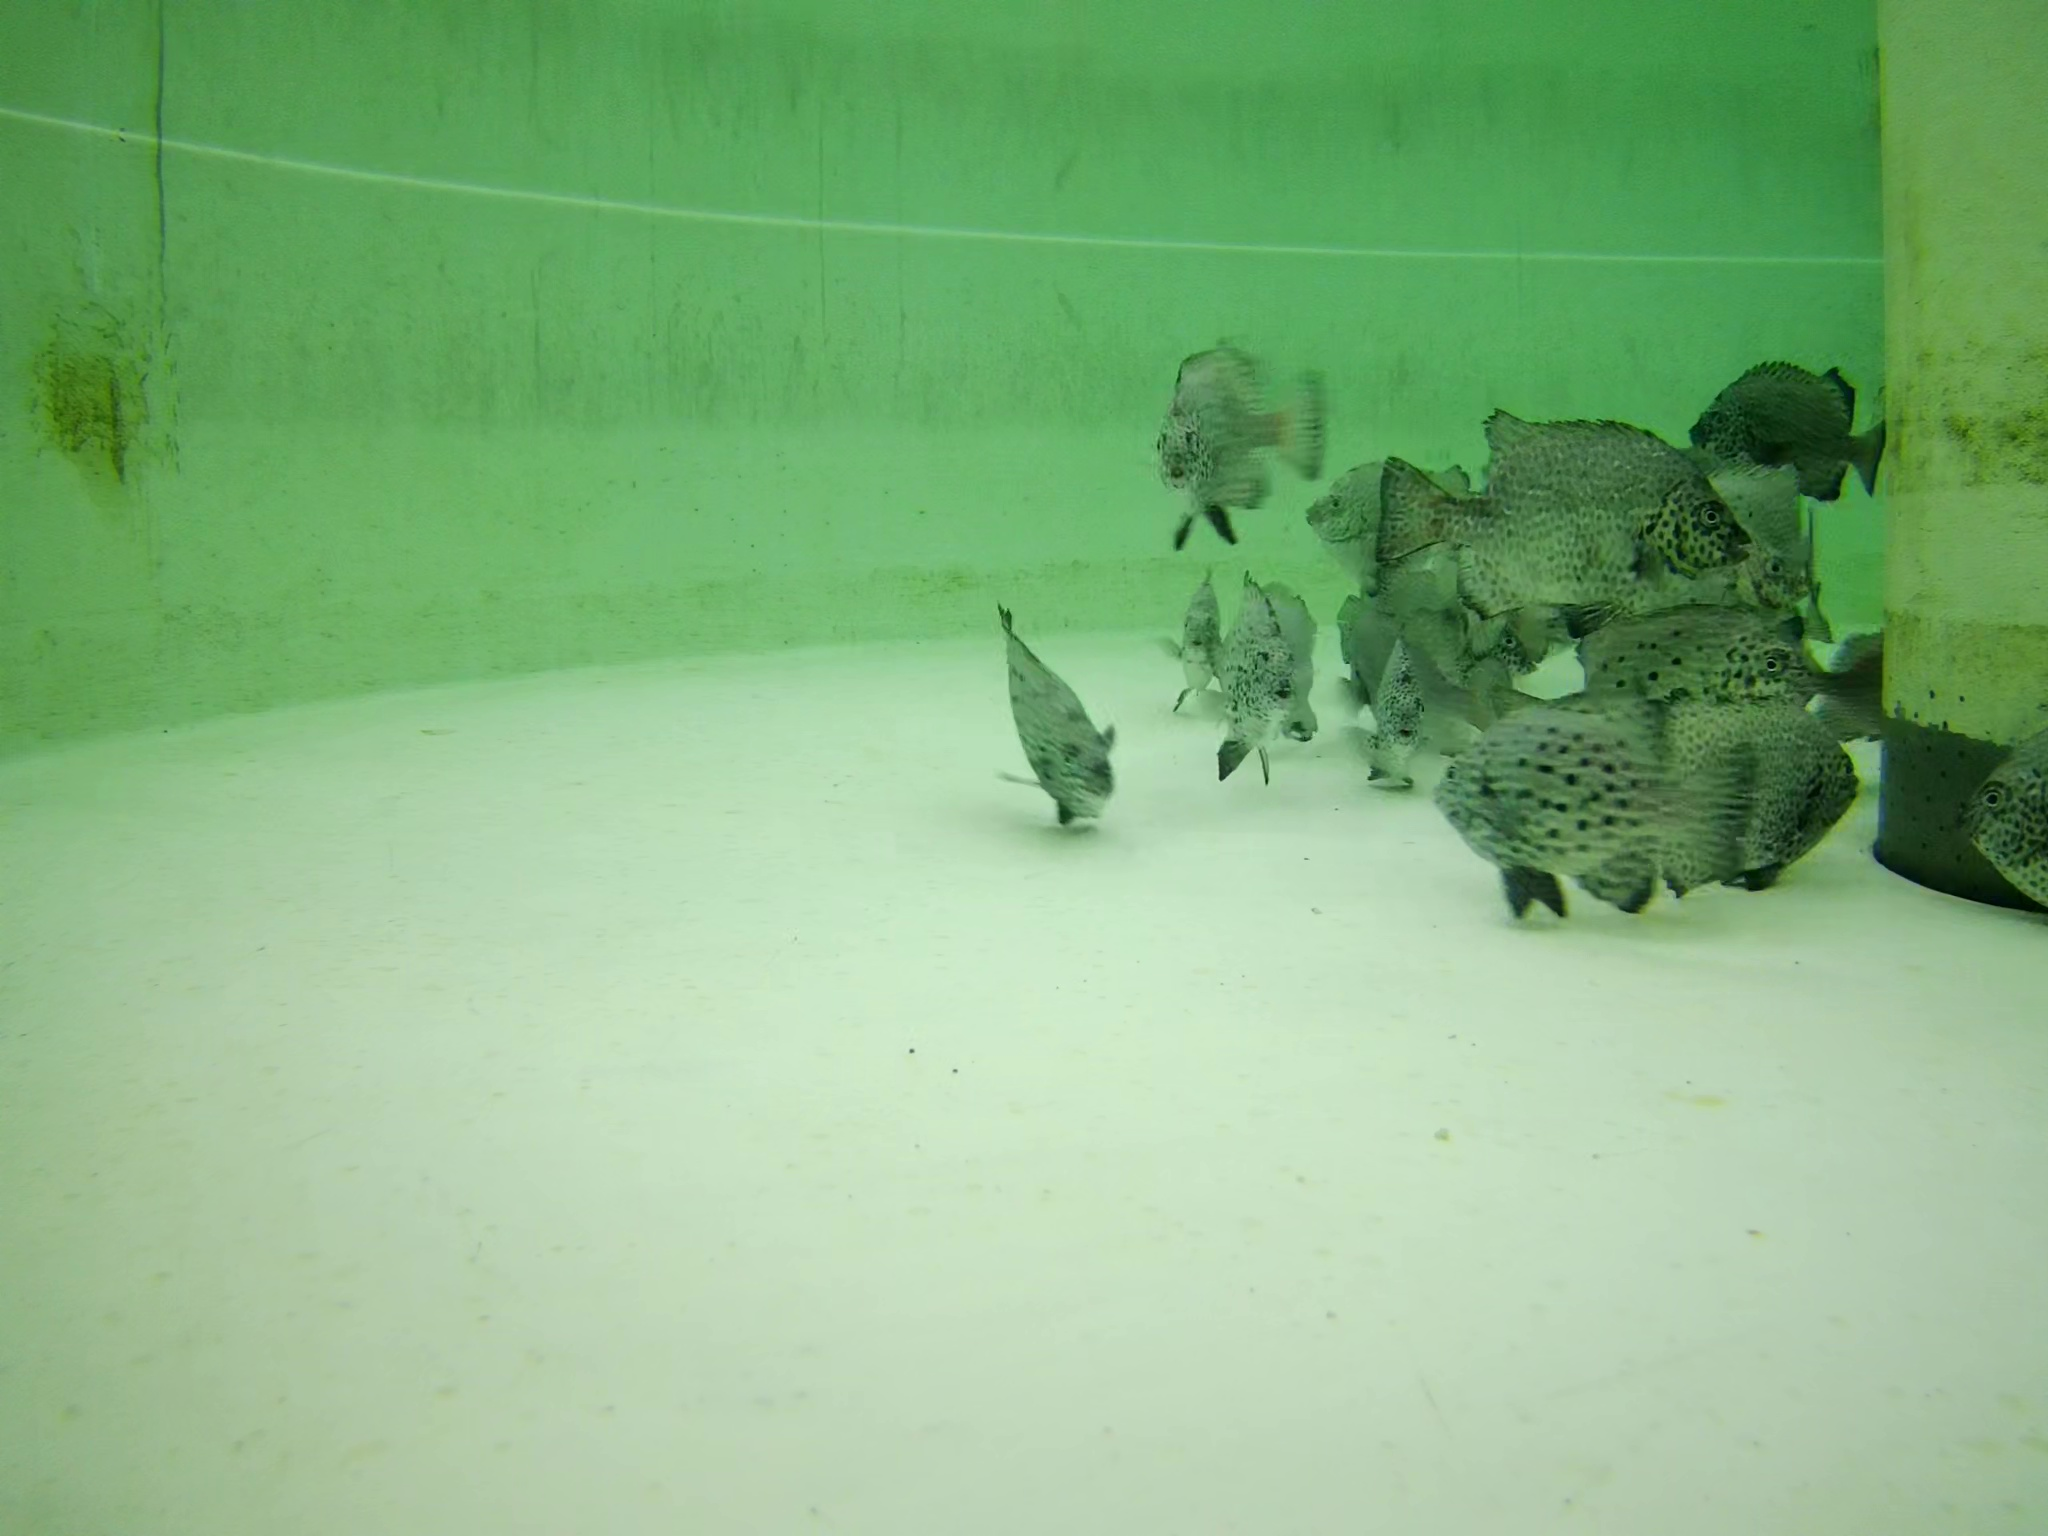fish: (1409, 682, 1767, 913), (1371, 407, 1743, 591), (1625, 682, 1858, 897), (1143, 336, 1330, 544), (1572, 611, 1829, 737), (985, 602, 1124, 833), (1675, 355, 1887, 500), (1214, 553, 1319, 763), (1306, 445, 1471, 570), (1963, 736, 2048, 907), (1367, 607, 1434, 778), (1814, 621, 1906, 739), (1158, 568, 1224, 716)
